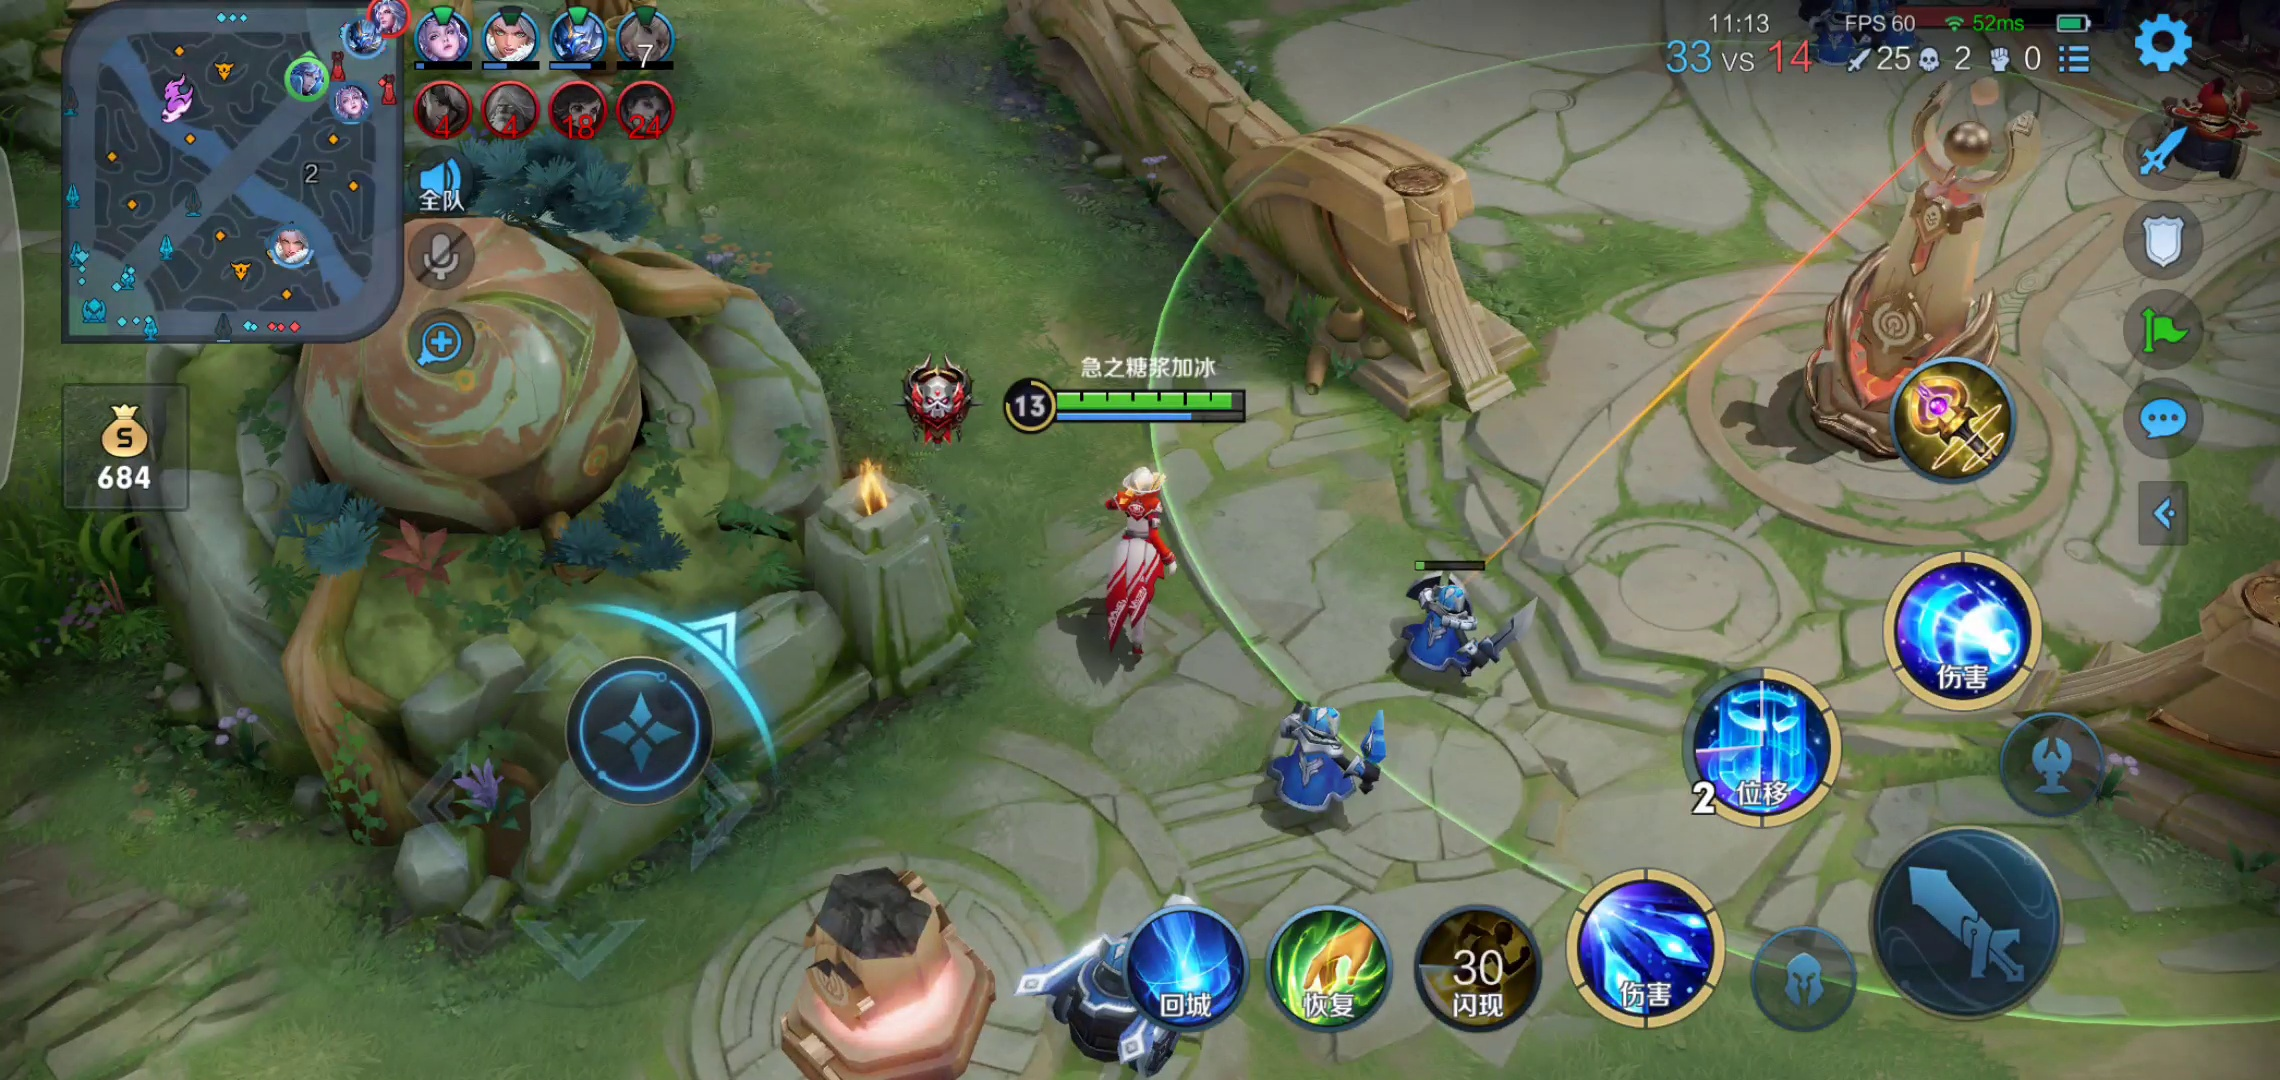grass: (1, 522, 166, 670)
hero: (1073, 456, 1189, 677)
soldier: (1045, 892, 1236, 1079), (1239, 693, 1413, 827), (1389, 564, 1537, 693), (2148, 81, 2274, 177)
tower: (1813, 78, 2053, 478), (760, 885, 997, 1080)
